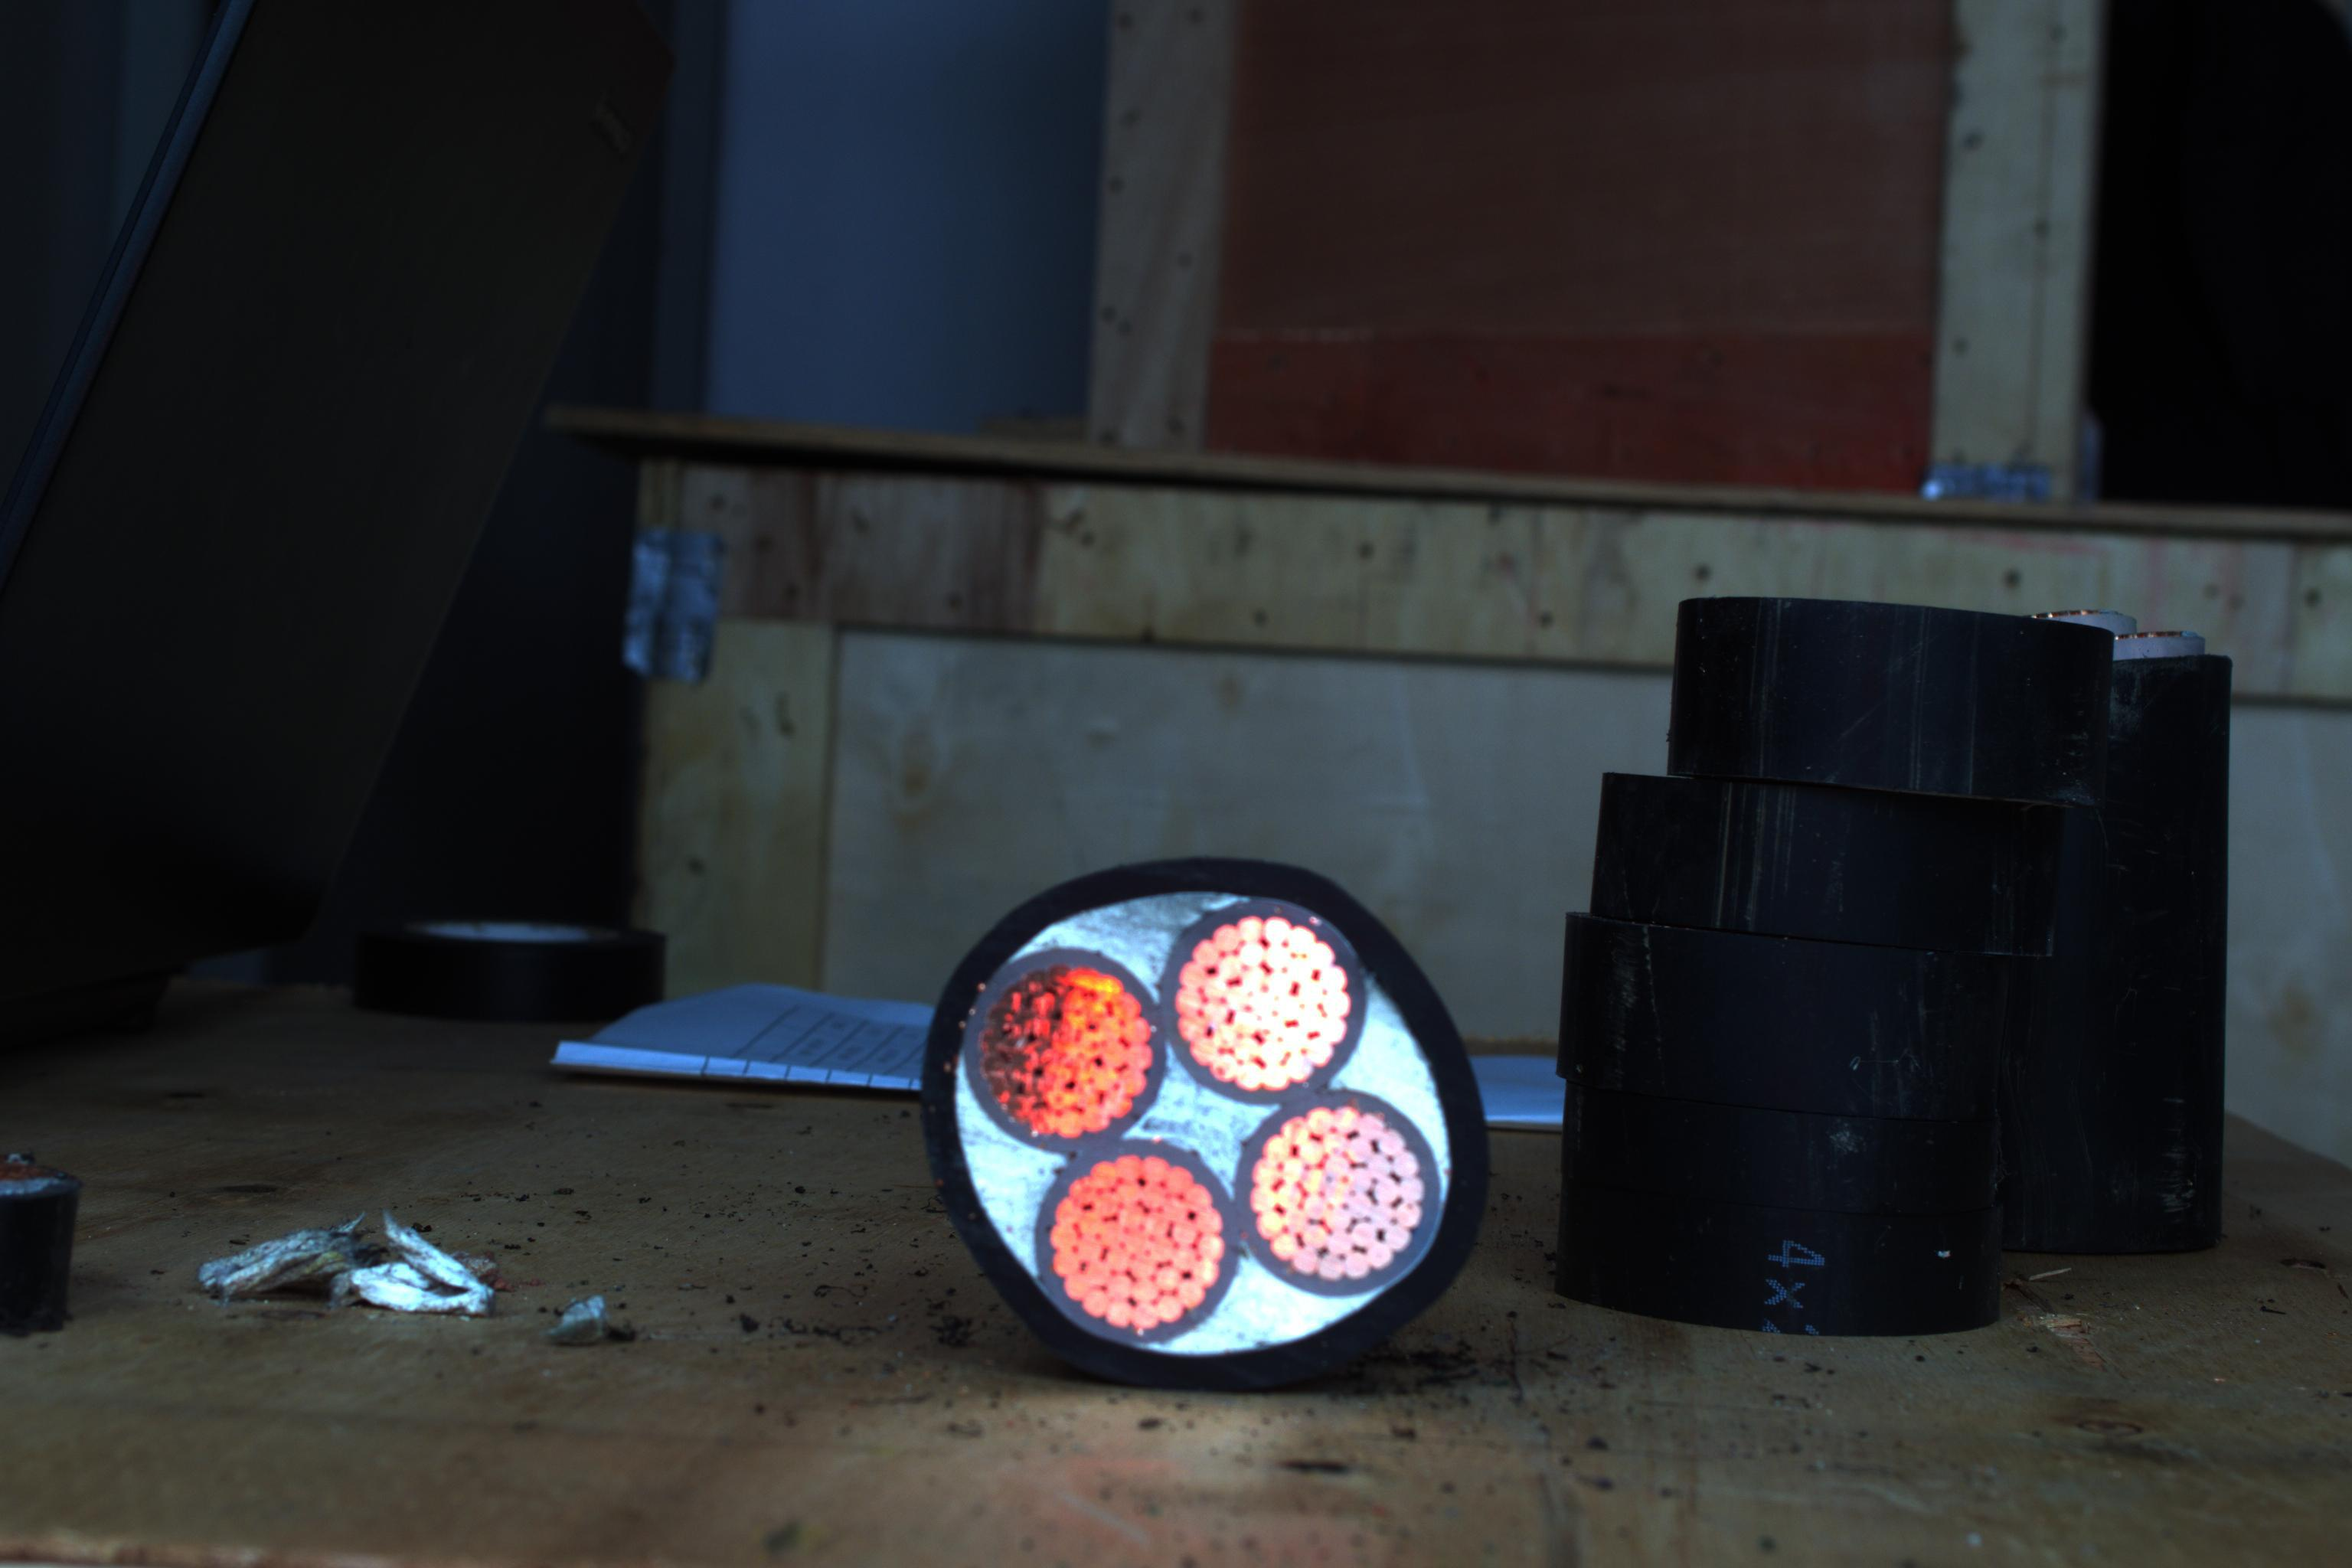YJV_0.6_1kV_4x240: (917, 873, 1487, 1372)
